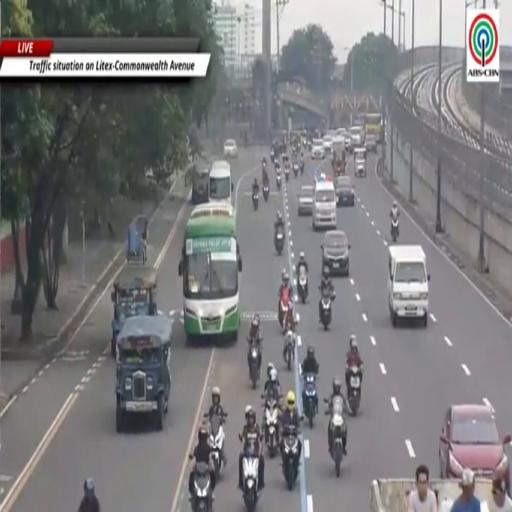bus: (179, 203, 242, 342), (209, 160, 233, 203), (364, 114, 383, 143)
car: (439, 404, 510, 490), (321, 231, 350, 276), (191, 167, 209, 205), (334, 175, 354, 206), (298, 186, 313, 216), (349, 125, 363, 150), (311, 139, 325, 159), (224, 139, 238, 157), (365, 134, 377, 153), (333, 128, 346, 145), (323, 135, 333, 153), (345, 132, 351, 150)
jeepney: (116, 316, 173, 433), (111, 267, 157, 357), (353, 147, 367, 177)
motorcycle: (326, 397, 345, 477), (243, 443, 259, 511), (210, 413, 227, 475), (262, 395, 279, 457), (191, 462, 212, 511), (282, 435, 298, 491), (303, 374, 317, 427), (348, 366, 361, 415), (320, 291, 335, 330), (249, 343, 260, 389), (278, 290, 289, 329), (284, 331, 294, 371), (283, 308, 298, 334), (298, 265, 308, 303), (274, 228, 284, 254), (391, 217, 398, 243), (252, 193, 259, 211), (263, 185, 269, 202), (276, 174, 281, 190), (294, 163, 299, 178), (285, 167, 289, 182), (300, 162, 304, 175), (271, 150, 274, 162)
truck: (370, 478, 415, 511)
